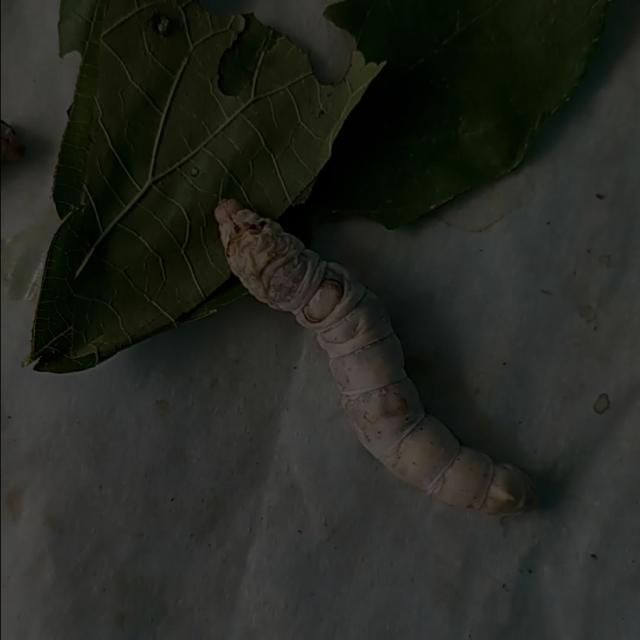Grasserie: (190, 179, 560, 536)
